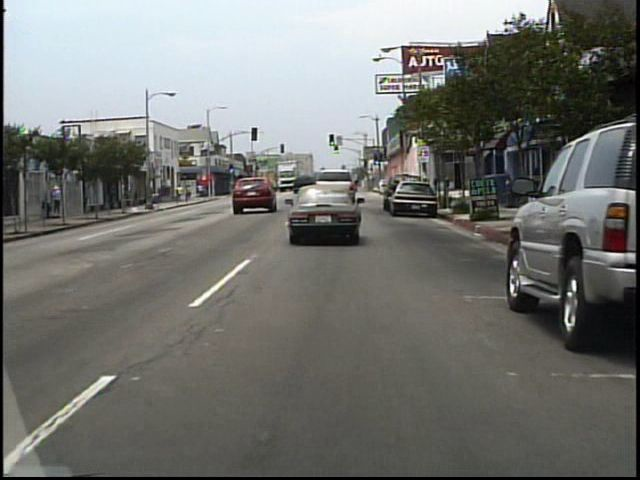person: (53, 183, 65, 218), (177, 184, 184, 203), (186, 184, 191, 202)
